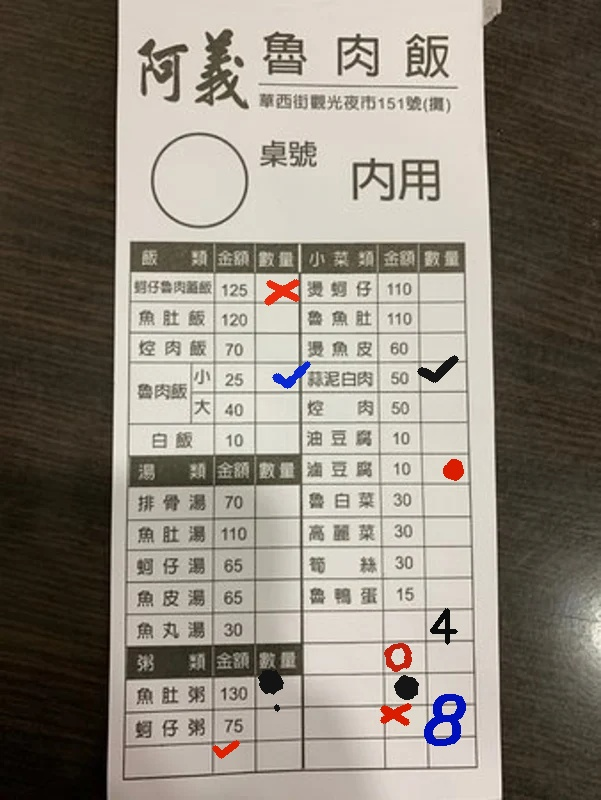marked_circle: (382, 674, 425, 702), (424, 455, 467, 483), (256, 678, 299, 706)
marked_hollow: (382, 642, 425, 670)
marked_number_4: (429, 612, 472, 640)
marked_number_8: (431, 704, 474, 732)
marked_tick: (421, 361, 464, 389), (215, 742, 258, 770), (257, 363, 300, 391)
marked_x: (384, 705, 427, 733), (256, 273, 299, 301)
